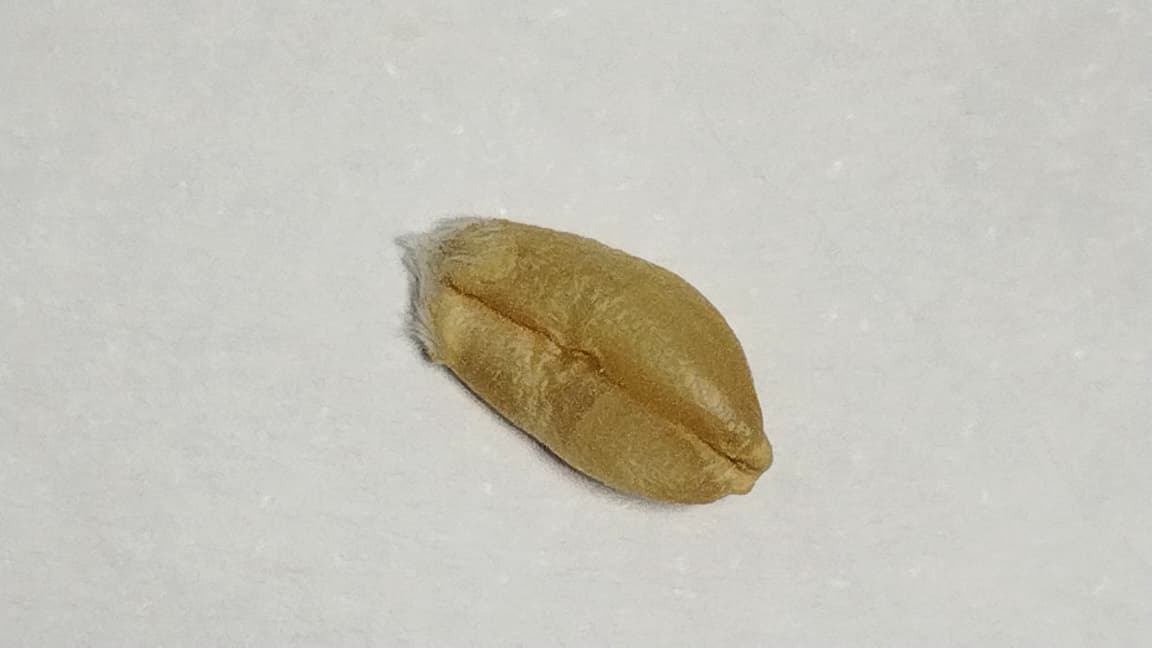healthy: (414, 219, 770, 501)
